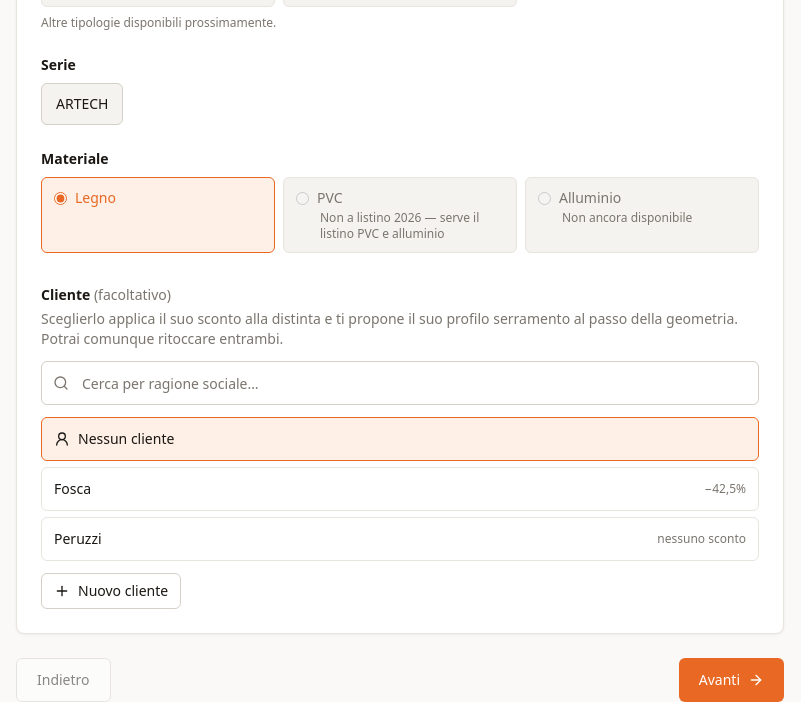
it: NuovaRichiestaClient › il riepilogo mostra la geometria e la sede derivata, non quattro numeri
The width and height of the screenshot is (801, 702).
(page scrolled)
Click the button "Avanti" at (731, 680), box [679, 658, 784, 701]
(page scrolled)
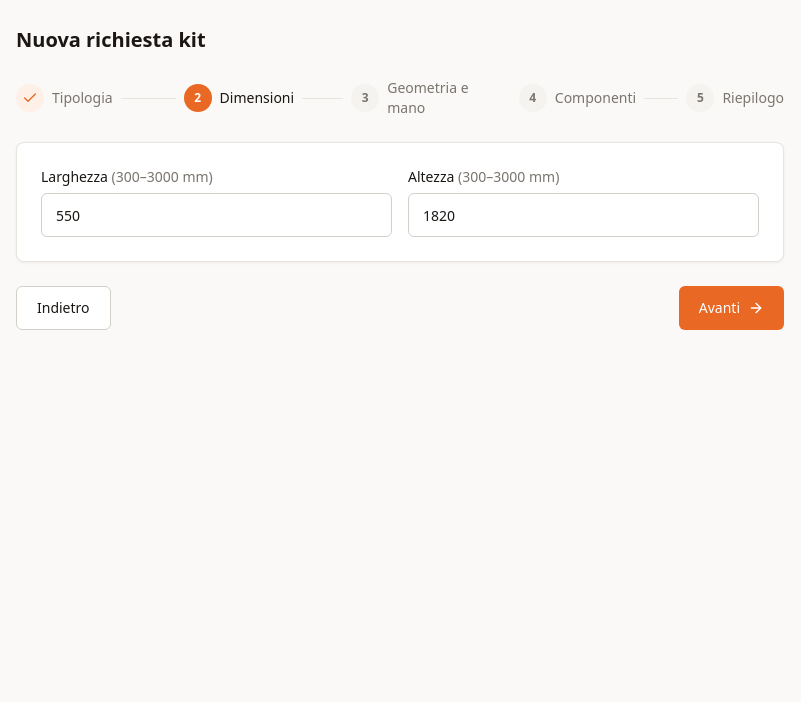
Click the button "Avanti" at (731, 308), box [679, 286, 784, 330]
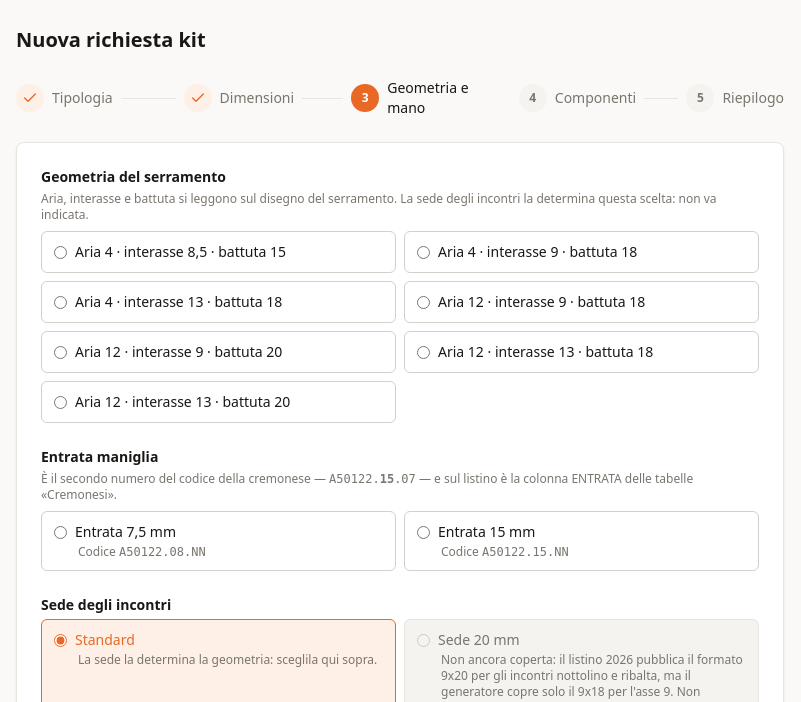
Click the radio button labelled "Aria 12 · interasse 13 · battuta 20" at (60, 402), box [54, 396, 67, 408]
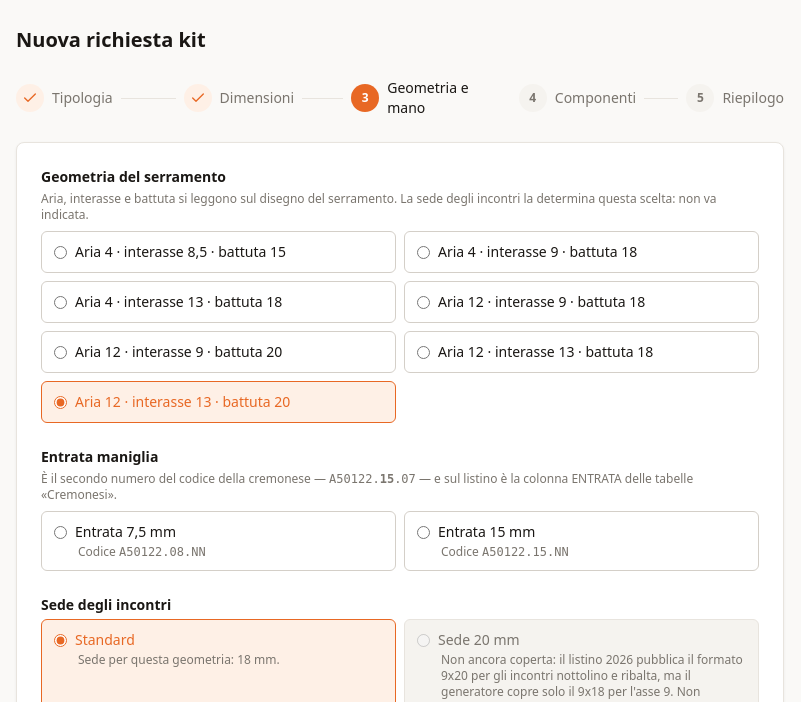
Click the radio button labelled "Entrata 7,5 mm Codice A50122.08.NN" at (60, 532), box [54, 526, 67, 538]
(page scrolled)
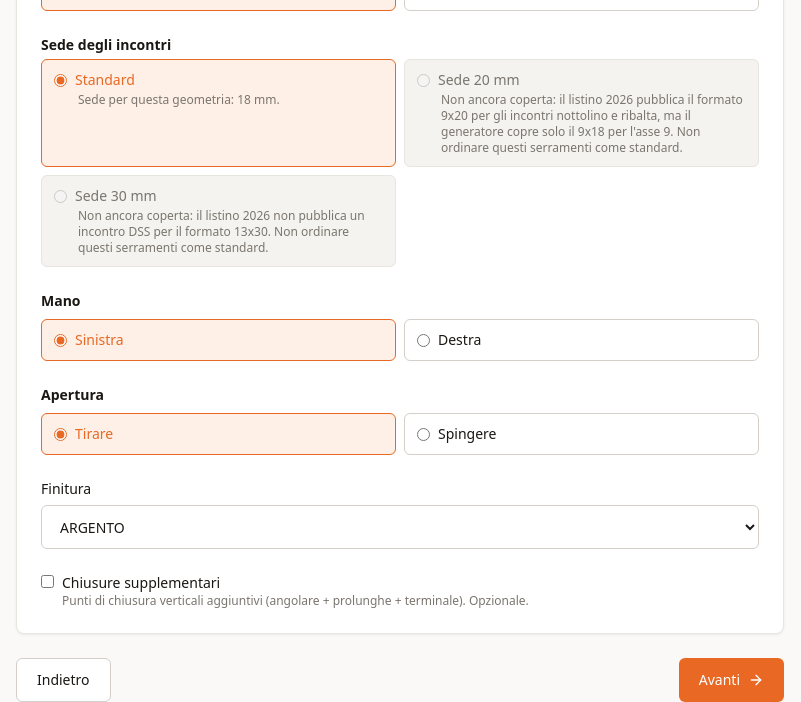
Click the button "Avanti" at (731, 680), box [679, 658, 784, 701]
(page scrolled)
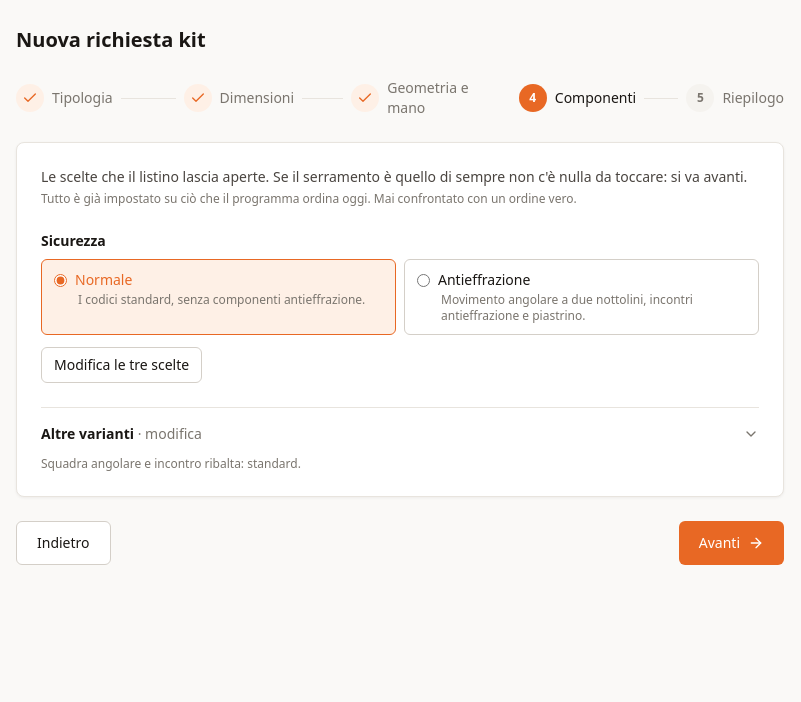
Click the button "Avanti" at (731, 543), box [679, 521, 784, 565]
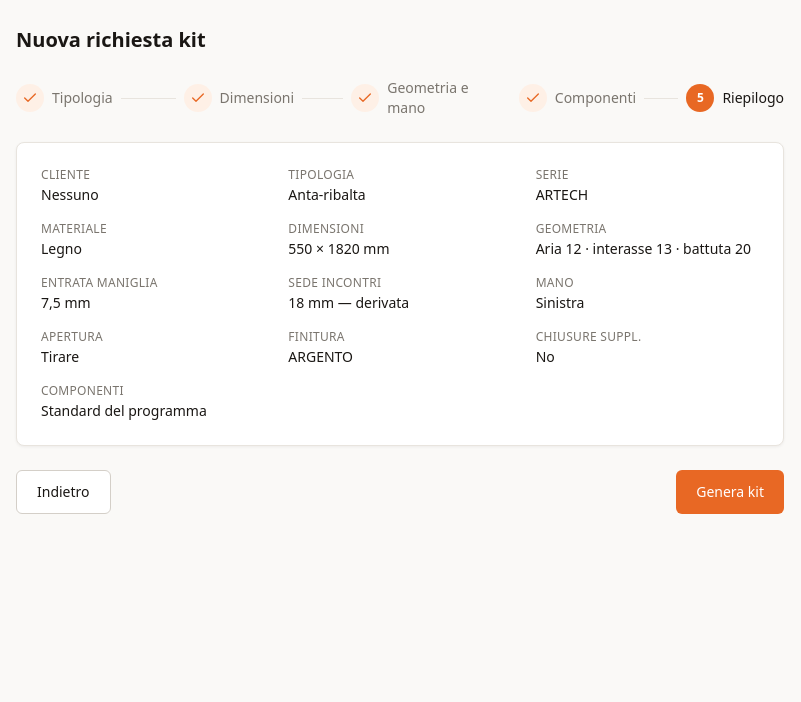
Check: the text "Aria 12 · interasse 13 · battuta 20" is shown, box [536, 239, 759, 259]
Check: the text "18 mm — derivata" is shown, box [288, 293, 409, 312]
